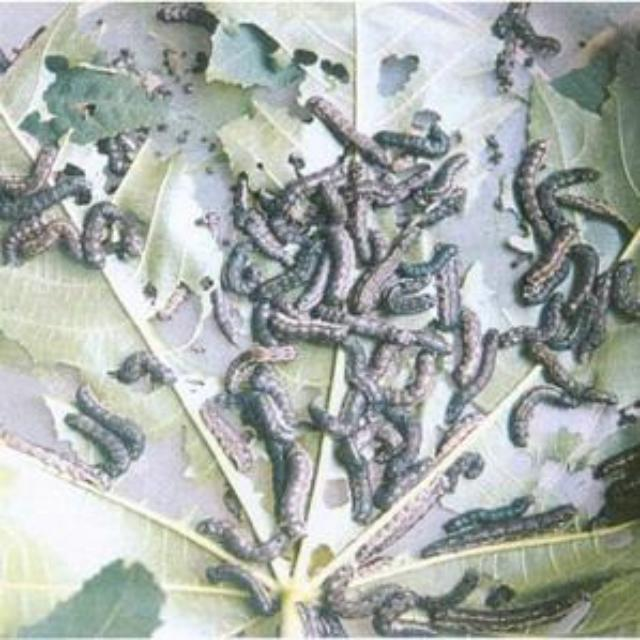Tobacco cutworm: (324, 328, 452, 464), (56, 386, 162, 494), (366, 484, 480, 584), (429, 306, 521, 418), (298, 95, 406, 179), (490, 378, 590, 468), (252, 436, 332, 542), (505, 208, 589, 306), (313, 558, 419, 630), (196, 548, 284, 628), (3, 207, 81, 297), (190, 502, 282, 578), (1, 130, 88, 203), (410, 238, 484, 322), (508, 138, 574, 228), (228, 378, 306, 450), (312, 228, 372, 314), (70, 194, 130, 278), (198, 246, 270, 312), (266, 306, 348, 362), (210, 346, 276, 400)
